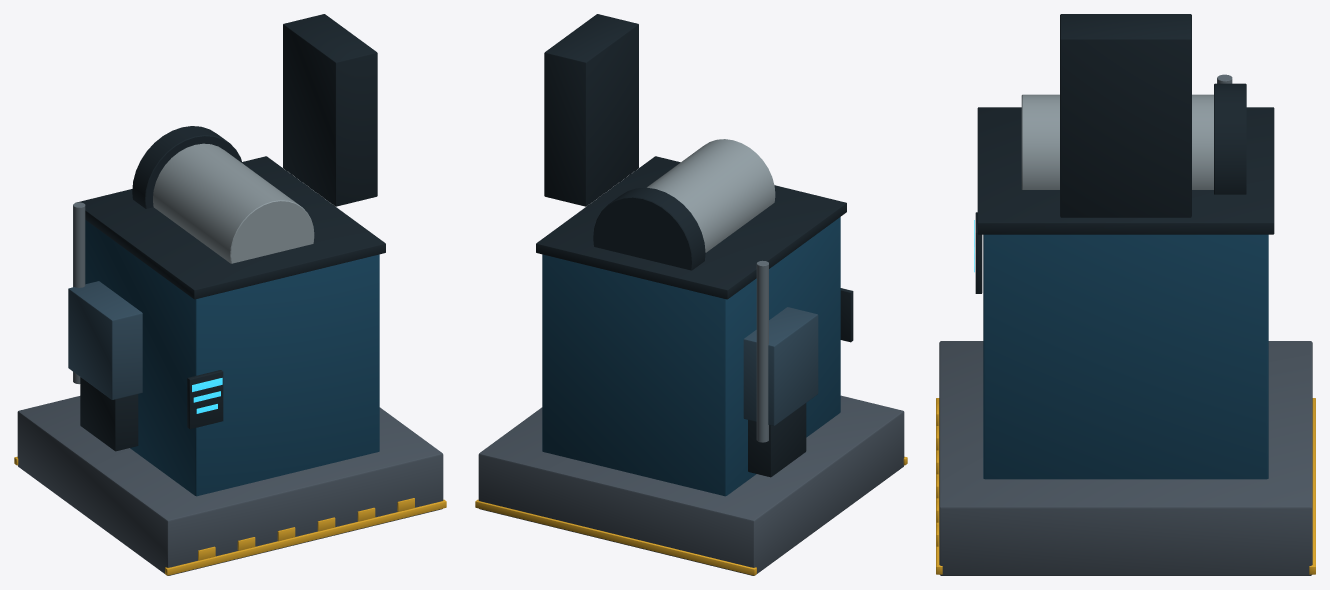
File: tension_reel_mo.glb
3 views of the same model, side by side, from view 1: azimuth 30°, elevation 25°; view 2: azimuth 150°, elevation 25°; view 3: azimuth 270°, elevation 25° (orthographic). The views are drawn at different scales.
Visible parts, largest first — view 1: Asset_tension_reel; view 2: Asset_tension_reel; view 3: Asset_tension_reel.
Part boxes in pixels (x1,y1,x2,y2): Asset_tension_reel: (14,14,446,575); Asset_tension_reel: (475,14,907,575); Asset_tension_reel: (936,14,1315,575).
Bounding box in the file's own units: 3.64 × 5.3 × 3.46.
